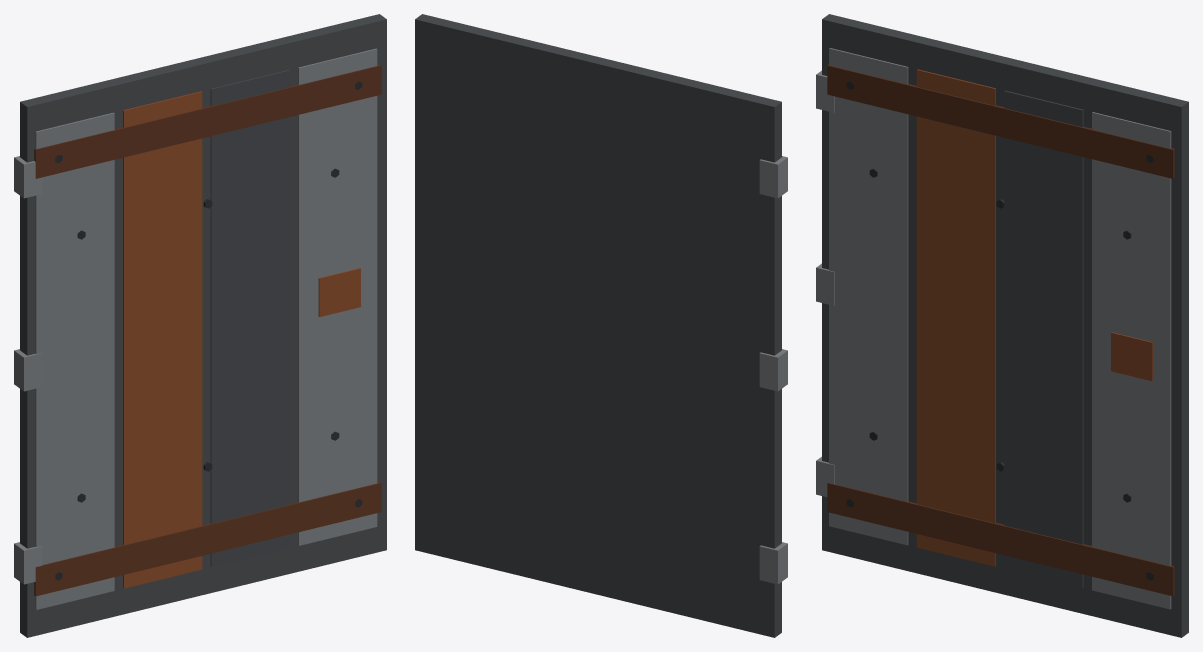
The model's file is piece_door_steel.fbx.
3 renders of one model, left to right at view 1: azimuth 30°, elevation 25°; view 2: azimuth 150°, elevation 25°; view 3: azimuth 330°, elevation 25°, orthographic.
Parts seen in each view (by area): view 1: piece_door_steel; view 2: piece_door_steel; view 3: piece_door_steel.
Part boxes in pixels (x1,y1,x2,y2): piece_door_steel: (14, 14, 386, 637); piece_door_steel: (415, 14, 787, 637); piece_door_steel: (816, 14, 1188, 637).
Bounding box in the file's own units: 1.58 × 2.2 × 0.0775.
